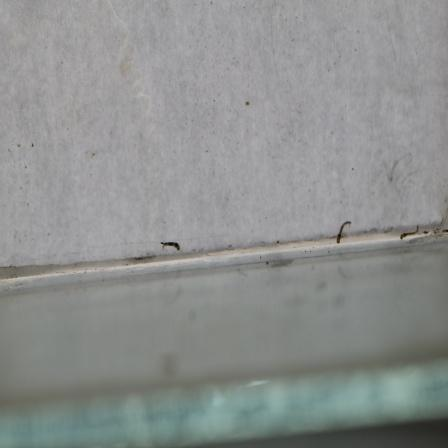Jentik-Nyamuk: (331, 217, 353, 247), (397, 221, 422, 246), (155, 238, 183, 255)
